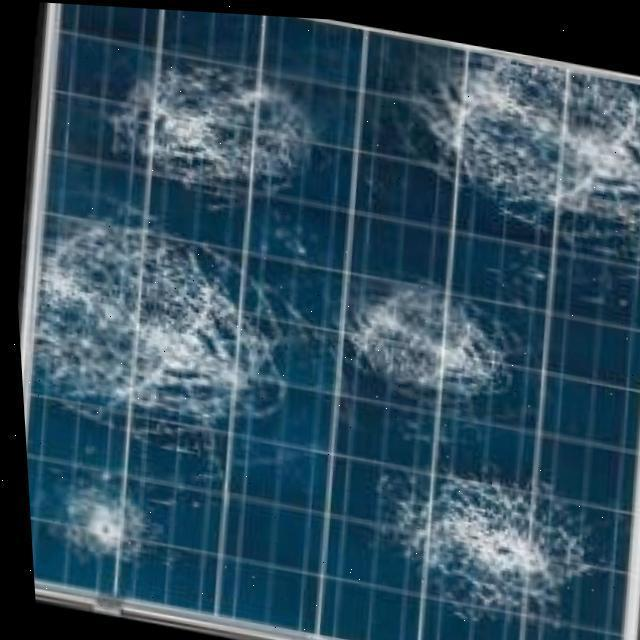Anomaly Solar Panel: (20, 3, 640, 640)
Structural Damage: (22, 201, 286, 454), (93, 12, 321, 242), (414, 34, 640, 260), (373, 441, 594, 640), (320, 243, 528, 446), (41, 473, 142, 561)
